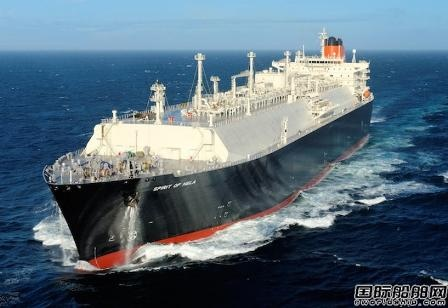Cargoship: (41, 34, 373, 266)
